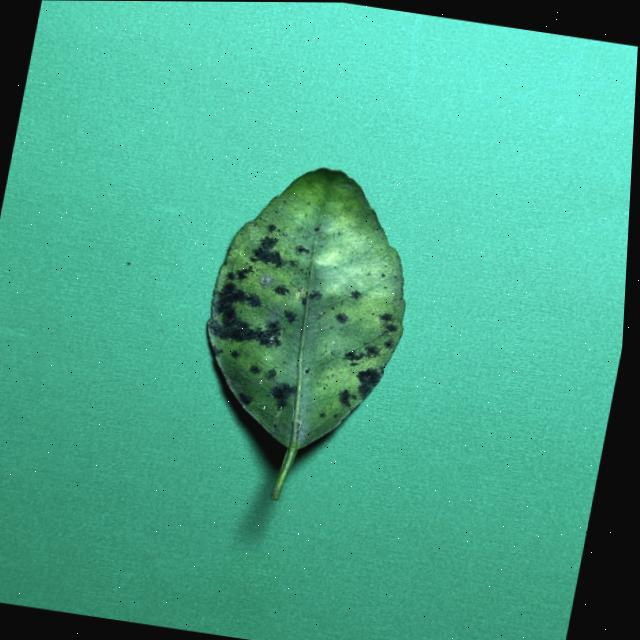sooty_mold: (208, 169, 405, 499)
